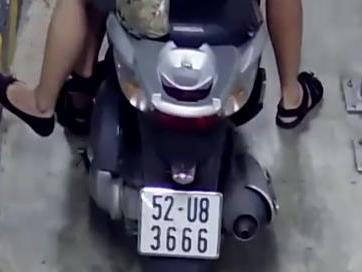num_plate: (137, 185, 222, 259)
